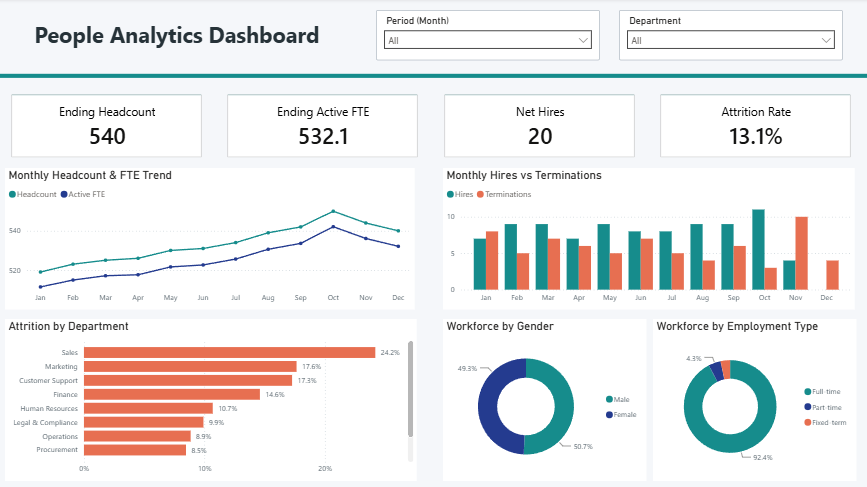

Layout of this report page (visuals, bound fields, positions):
{"tool":"powerbi","page":{"name":"People Analytics","canvas":[1280,720],"ordinal":0},"visuals":[{"type":"cardVisual","fields":{"Data":["_People Measures.Ending Active FTE"]},"box":[323.5,124.4,313.9,126],"z":0},{"type":"textbox","box":[51.6,25.8,480.8,59.1],"z":1000},{"type":"shape","box":[0,98.6,1280,31.8],"z":2000},{"type":"slicer","fields":{"Values":["DimOrganization.Department"]},"box":[915,18.2,329.1,74.3],"z":3000},{"type":"cardVisual","fields":{"Data":["_People Measures.Ending Headcount"]},"box":[5.6,124.4,313.9,126],"z":4000},{"type":"cardVisual","fields":{"Data":["_People Measures.Net Hires"]},"box":[641.5,124.4,313.9,126],"z":5000},{"type":"cardVisual","fields":{"Data":["_People Measures.Attrition Rate"]},"box":[959.5,124.4,313.9,126],"z":6000},{"type":"lineChart","title":"Monthly Headcount & FTE Trend","fields":{"Y":["_People Measures.Monthly Headcount","_People Measures.Monthly Active FTE"],"Category":["DimDate.MonthShort"]},"box":[13.6,250.2,602.1,207.8],"z":7000},{"type":"clusteredColumnChart","title":"Monthly Hires vs Terminations","fields":{"Y":["_People Measures.Total Hires","_People Measures.Total Terminations"],"Category":["DimDate.MonthShort"]},"box":[656.7,250.2,605.1,207.8],"z":8000},{"type":"clusteredBarChart","title":"Attrition by Department","fields":{"Y":["_People Measures.Attrition Rate"],"Category":["DimOrganization.Department"]},"box":[13.6,471.7,605.1,238.1],"z":9000},{"type":"donutChart","title":"Workforce by Gender","fields":{"Y":["_People Measures.Ending Headcount"],"Category":["DimEmployee.Gender"]},"box":[656.7,471.7,298.8,238.1],"z":10000},{"type":"donutChart","title":"Workforce by Employment Type","fields":{"Y":["_People Measures.Ending Headcount"],"Category":["DimEmployee.EmploymentType"]},"box":[966.1,471.7,298.8,238.1],"z":11000},{"type":"slicer","fields":{"Values":["DimDate.YearMonth"]},"box":[558.1,18.2,329.1,74.3],"z":12000}]}

Visuals, with their boxes in screenshot pixels (x1, y1, x2, y2), scaled from the page's 1280x720 canvas onto the 867x487 screenshot:
cardVisual - _People Measures.Ending Active FTE: box=[219, 84, 432, 169]
textbox: box=[35, 17, 361, 57]
shape: box=[0, 67, 866, 88]
slicer - DimOrganization.Department: box=[620, 12, 843, 63]
cardVisual - _People Measures.Ending Headcount: box=[4, 84, 216, 169]
cardVisual - _People Measures.Net Hires: box=[435, 84, 647, 169]
cardVisual - _People Measures.Attrition Rate: box=[650, 84, 863, 169]
"Monthly Headcount & FTE Trend" lineChart: box=[9, 169, 417, 310]
"Monthly Hires vs Terminations" clusteredColumnChart: box=[445, 169, 855, 310]
"Attrition by Department" clusteredBarChart: box=[9, 319, 419, 480]
"Workforce by Gender" donutChart: box=[445, 319, 647, 480]
"Workforce by Employment Type" donutChart: box=[654, 319, 857, 480]
slicer - DimDate.YearMonth: box=[378, 12, 601, 63]
